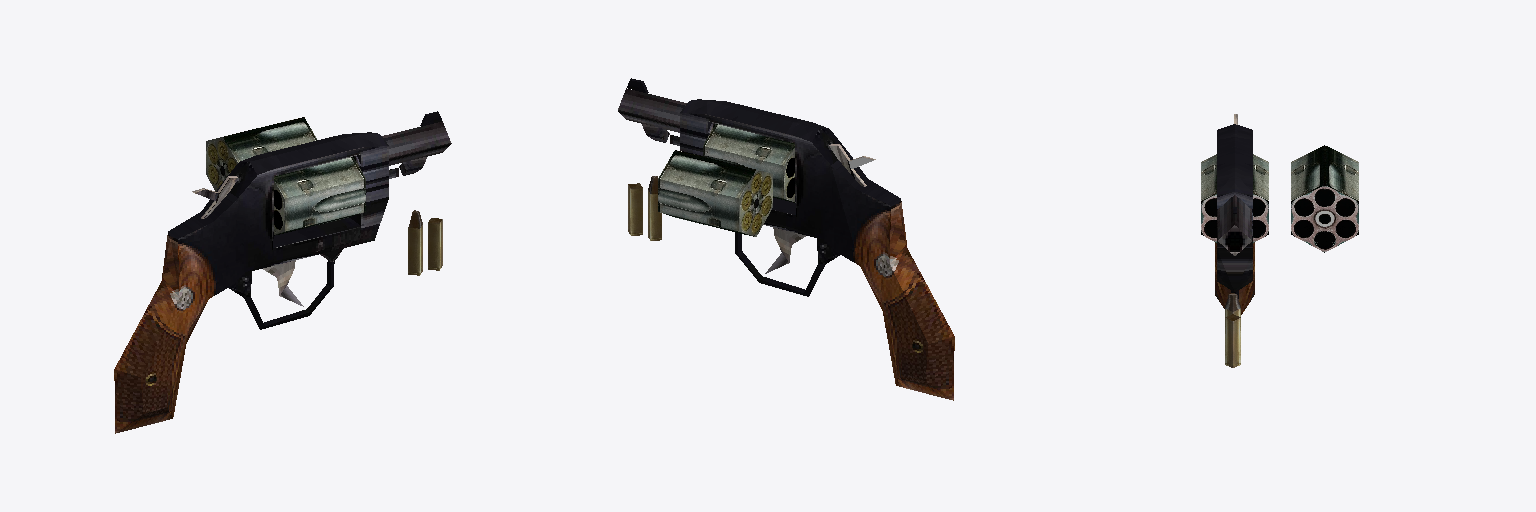
The picture shows the model from 3 angles: view 1: azimuth 30°, elevation 25°; view 2: azimuth 150°, elevation 25°; view 3: azimuth 270°, elevation 25°; orthographic projection.
Visible parts, largest first — view 1: SnubNoseBody, SnubNoseCylinder, SnubNoseCylinderFull, SnubNoseTrigger&Hammer, 38SpecialBullet, 38SpecialShell; view 2: SnubNoseBody, SnubNoseCylinderFull, SnubNoseCylinder, SnubNoseTrigger&Hammer, 38SpecialShell, 38SpecialBullet; view 3: SnubNoseBody, SnubNoseCylinderFull, SnubNoseCylinder, 38SpecialShell.
Boxes of the visible parts, x1,y1,x2,y2 form: SnubNoseBody: [114, 111, 451, 433]; SnubNoseCylinder: [274, 157, 365, 235]; SnubNoseCylinderFull: [206, 117, 316, 191]; SnubNoseTrigger&Hammer: [192, 176, 303, 306]; 38SpecialBullet: [408, 210, 422, 275]; 38SpecialShell: [428, 218, 442, 270]; SnubNoseBody: [618, 78, 954, 400]; SnubNoseCylinderFull: [658, 150, 772, 236]; SnubNoseCylinder: [703, 124, 795, 202]; SnubNoseTrigger&Hammer: [765, 144, 875, 273]; 38SpecialShell: [628, 183, 642, 235]; 38SpecialBullet: [648, 176, 661, 240]; SnubNoseBody: [1215, 124, 1254, 314]; SnubNoseCylinderFull: [1291, 145, 1358, 252]; SnubNoseCylinder: [1201, 154, 1268, 242]; 38SpecialShell: [1225, 314, 1240, 367].
Size of the model in its own units: 1.92 by 1.36 by 0.7978.
Materials: 4 (3 with a texture image).